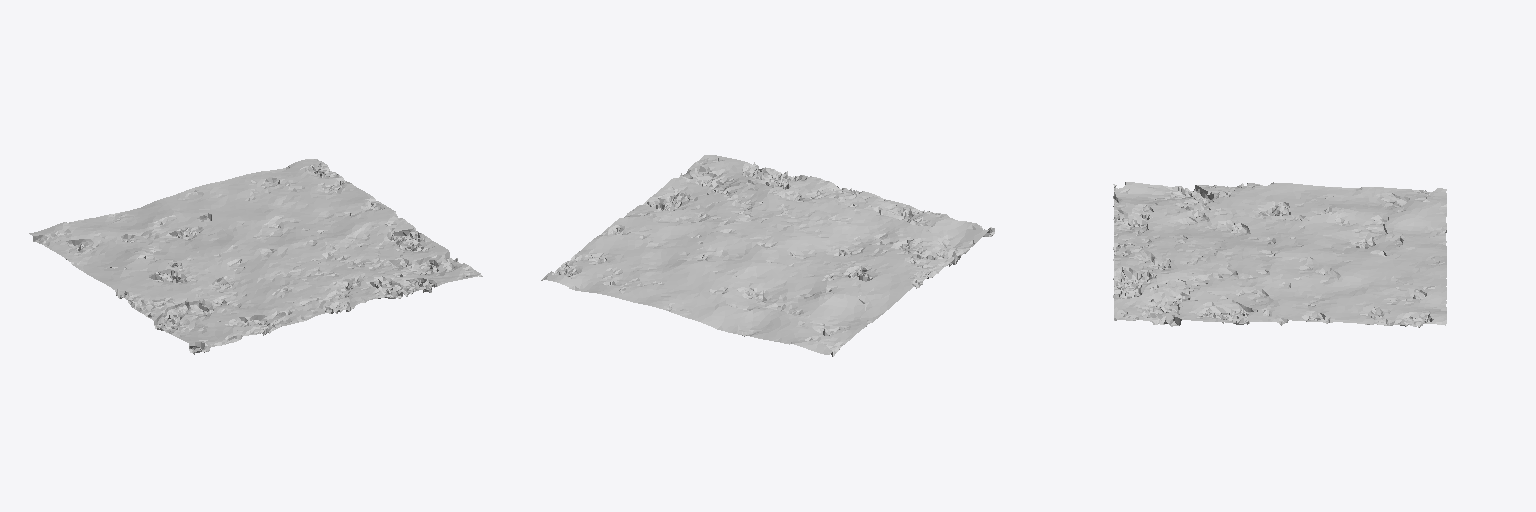
File: terreno.obj
3 views of the same model, side by side, from view 1: azimuth 30°, elevation 25°; view 2: azimuth 150°, elevation 25°; view 3: azimuth 270°, elevation 25° (orthographic).
Visible parts, largest first — view 1: Object_3; view 2: Object_3; view 3: Object_3.
Part boxes in pixels (bbox=[...]): Object_3: bbox=[29, 159, 482, 354]; Object_3: bbox=[541, 155, 994, 356]; Object_3: bbox=[1113, 182, 1446, 327].
Bounding box in the file's own units: 1 × 0.0639 × 1.